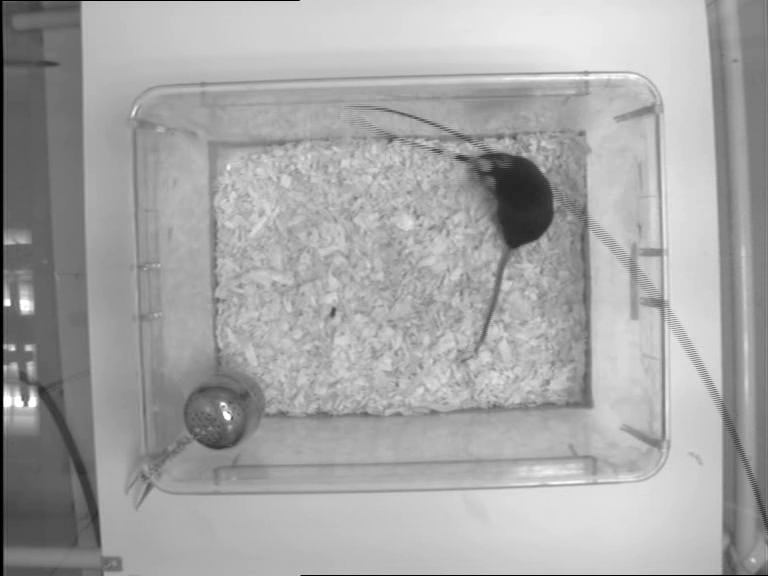mice: (458, 149, 554, 365)
